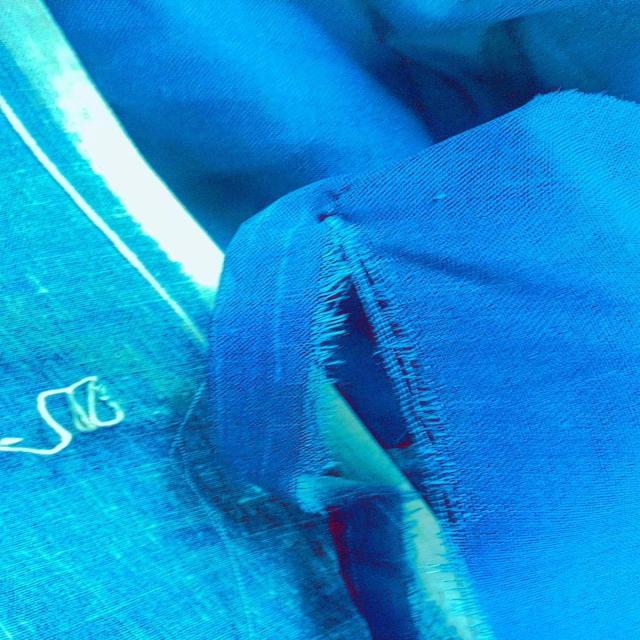cut: (255, 189, 463, 533)
